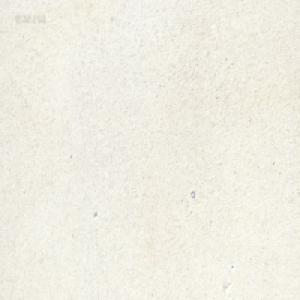Washer: (190, 189, 195, 198)
